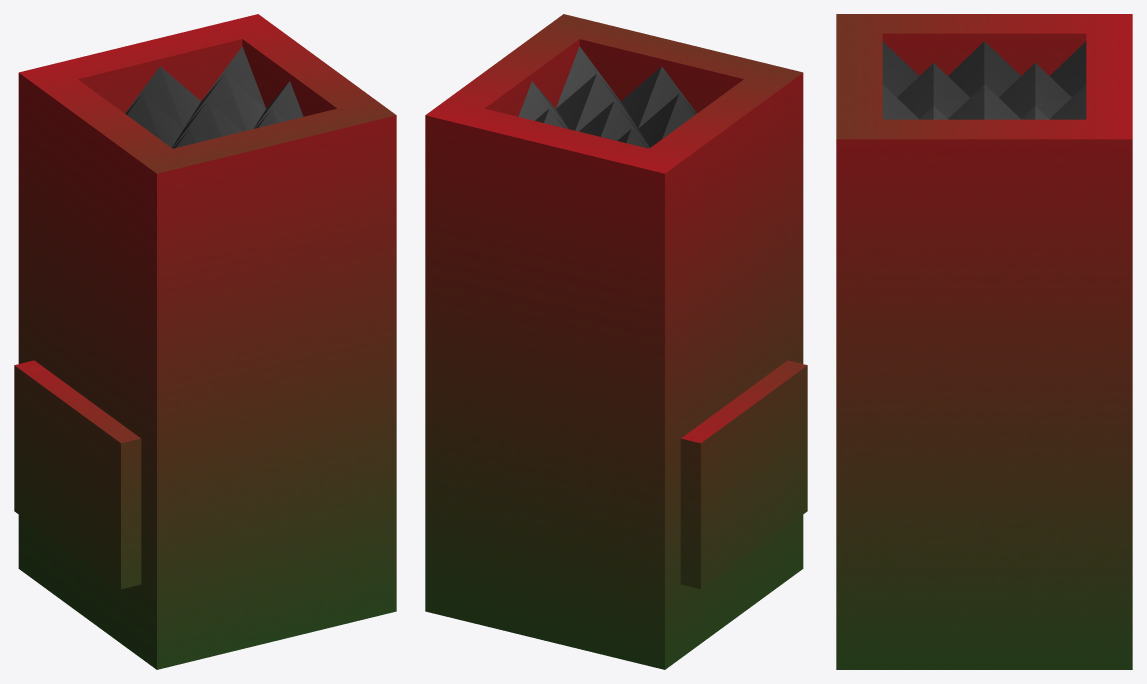
The model's file is kiuas.glb.
3 renders of one model, left to right at view 1: azimuth 30°, elevation 25°; view 2: azimuth 150°, elevation 25°; view 3: azimuth 270°, elevation 25°, orthographic. The views are drawn at different scales.
Visible parts, largest first — view 1: kiuas; view 2: kiuas; view 3: kiuas.
Part boxes in pixels (box(x1,y1,x2,y2)): kiuas: box(14, 14, 396, 669); kiuas: box(425, 14, 807, 669); kiuas: box(836, 14, 1132, 669).
Size of the model in its own units: 0.6732 by 1.23 by 0.6212.
1 material, 1 textured.
